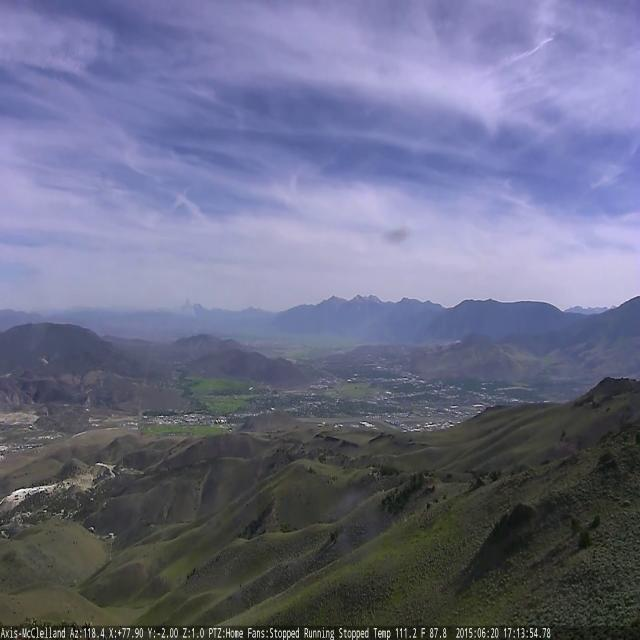smoke: (171, 297, 196, 317)
